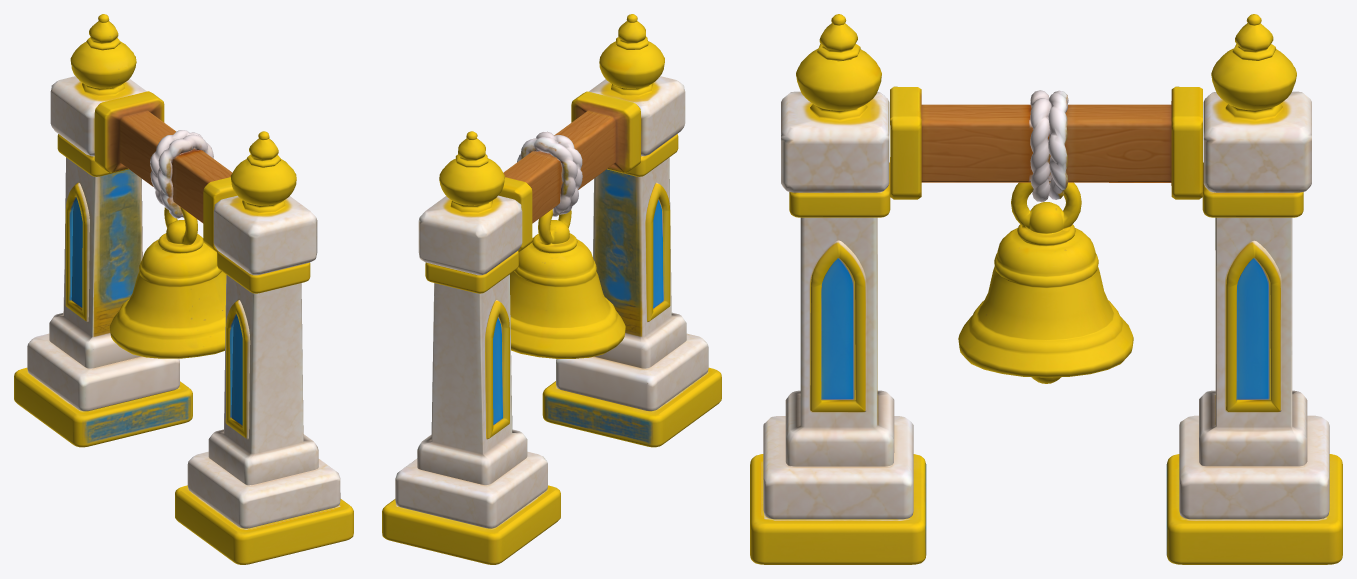
Rendered from NEW_BellFrame_SM_tex4k_pbr_src.fbx.
The picture shows the model from 3 angles, left to right: view 1: azimuth 30°, elevation 25°; view 2: azimuth 150°, elevation 25°; view 3: azimuth 270°, elevation 25°; orthographic projection. The views are drawn at different scales.
Visible parts, largest first — view 1: tripo_75a4c2d5_61f5_46bd_a0b8_6f7a00b2d07a; view 2: tripo_75a4c2d5_61f5_46bd_a0b8_6f7a00b2d07a; view 3: tripo_75a4c2d5_61f5_46bd_a0b8_6f7a00b2d07a.
Part boxes in pixels (<box>): tripo_75a4c2d5_61f5_46bd_a0b8_6f7a00b2d07a: <box>14,14,353,564</box>; tripo_75a4c2d5_61f5_46bd_a0b8_6f7a00b2d07a: <box>382,14,721,564</box>; tripo_75a4c2d5_61f5_46bd_a0b8_6f7a00b2d07a: <box>750,14,1342,564</box>.
Size of the model in its own units: 0.3335 by 0.9575 by 0.9995.
Materials: 1 (1 with a texture image).
